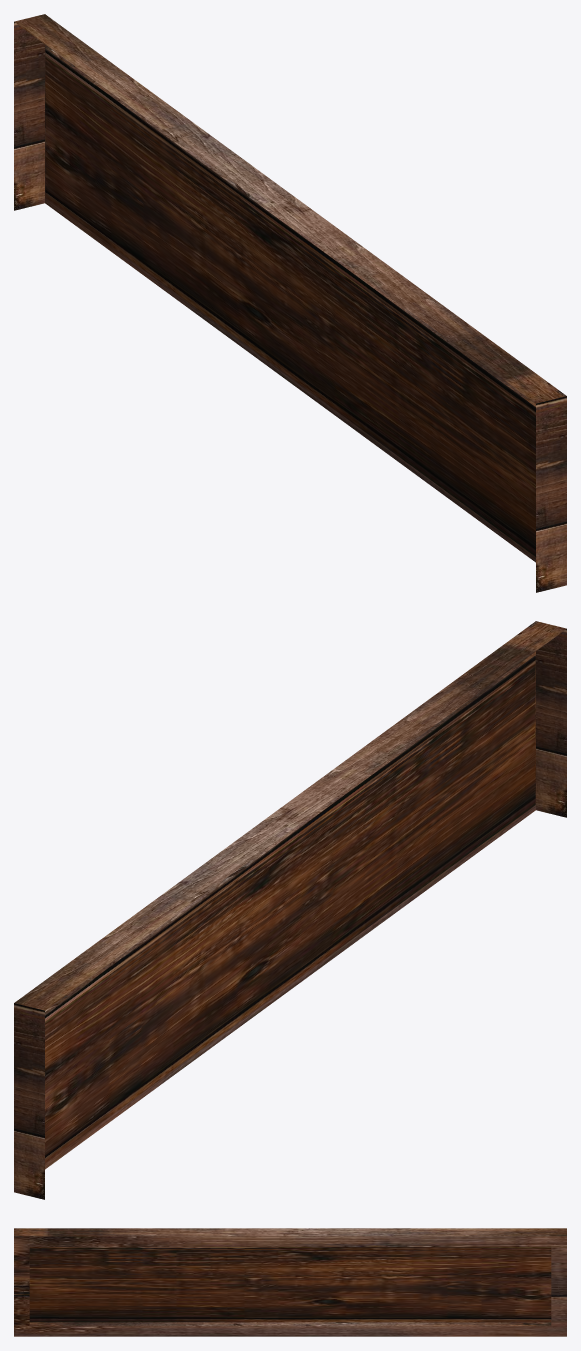
Rendered from SaloonSign.fbx.
3 views of the same model, one above another, from view 1: azimuth 30°, elevation 25°; view 2: azimuth 150°, elevation 25°; view 3: azimuth 270°, elevation 25° (orthographic). The views are drawn at different scales.
Visible parts, largest first — view 1: pCube35; view 2: pCube35; view 3: pCube35.
Part boxes in pixels (x1,y1,x2,y2): pCube35: [14, 14, 566, 592]; pCube35: [14, 621, 566, 1199]; pCube35: [14, 1228, 566, 1336].
Size of the model in its own units: 0.1716 by 1 by 5.
